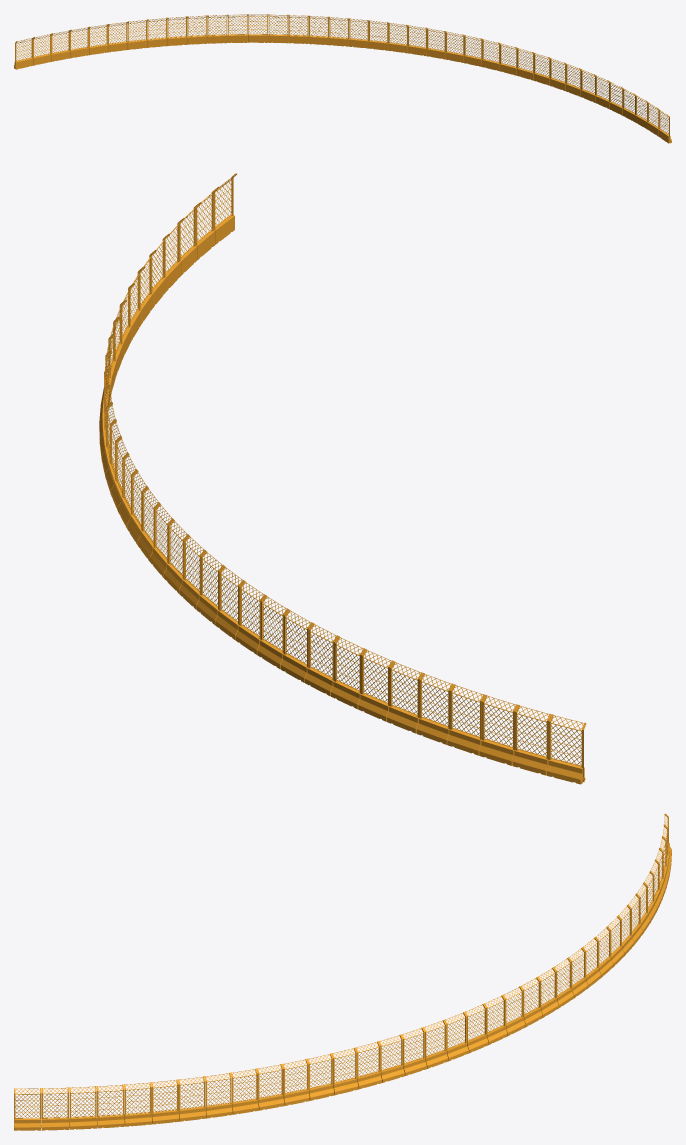
The model's file is SM_Fence_Road_Debrisguard_Net_60m_Corner_Outer.fbx.
3 views of the same model, one above another, from view 1: azimuth 30°, elevation 25°; view 2: azimuth 150°, elevation 25°; view 3: azimuth 270°, elevation 25° (orthographic). The views are drawn at different scales.
Parts seen in each view (by area): view 1: SM_Fence_Road_Debrisguard_Net_60m_Corner_Outer; view 2: SM_Fence_Road_Debrisguard_Net_60m_Corner_Outer; view 3: SM_Fence_Road_Debrisguard_Net_60m_Corner_Outer.
Part boxes in pixels (x1,y1,x2,y2): SM_Fence_Road_Debrisguard_Net_60m_Corner_Outer: (14,14,671,143); SM_Fence_Road_Debrisguard_Net_60m_Corner_Outer: (99,173,586,784); SM_Fence_Road_Debrisguard_Net_60m_Corner_Outer: (14,813,671,1130).
Size of the model in its own units: 61.47 by 4.08 by 61.34.
